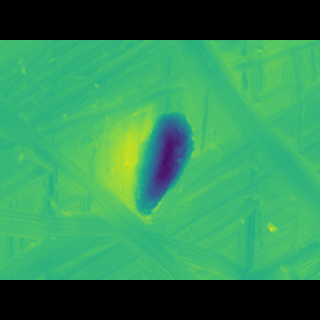Loch: (162, 71, 319, 208), (0, 191, 247, 249), (127, 121, 201, 209)
